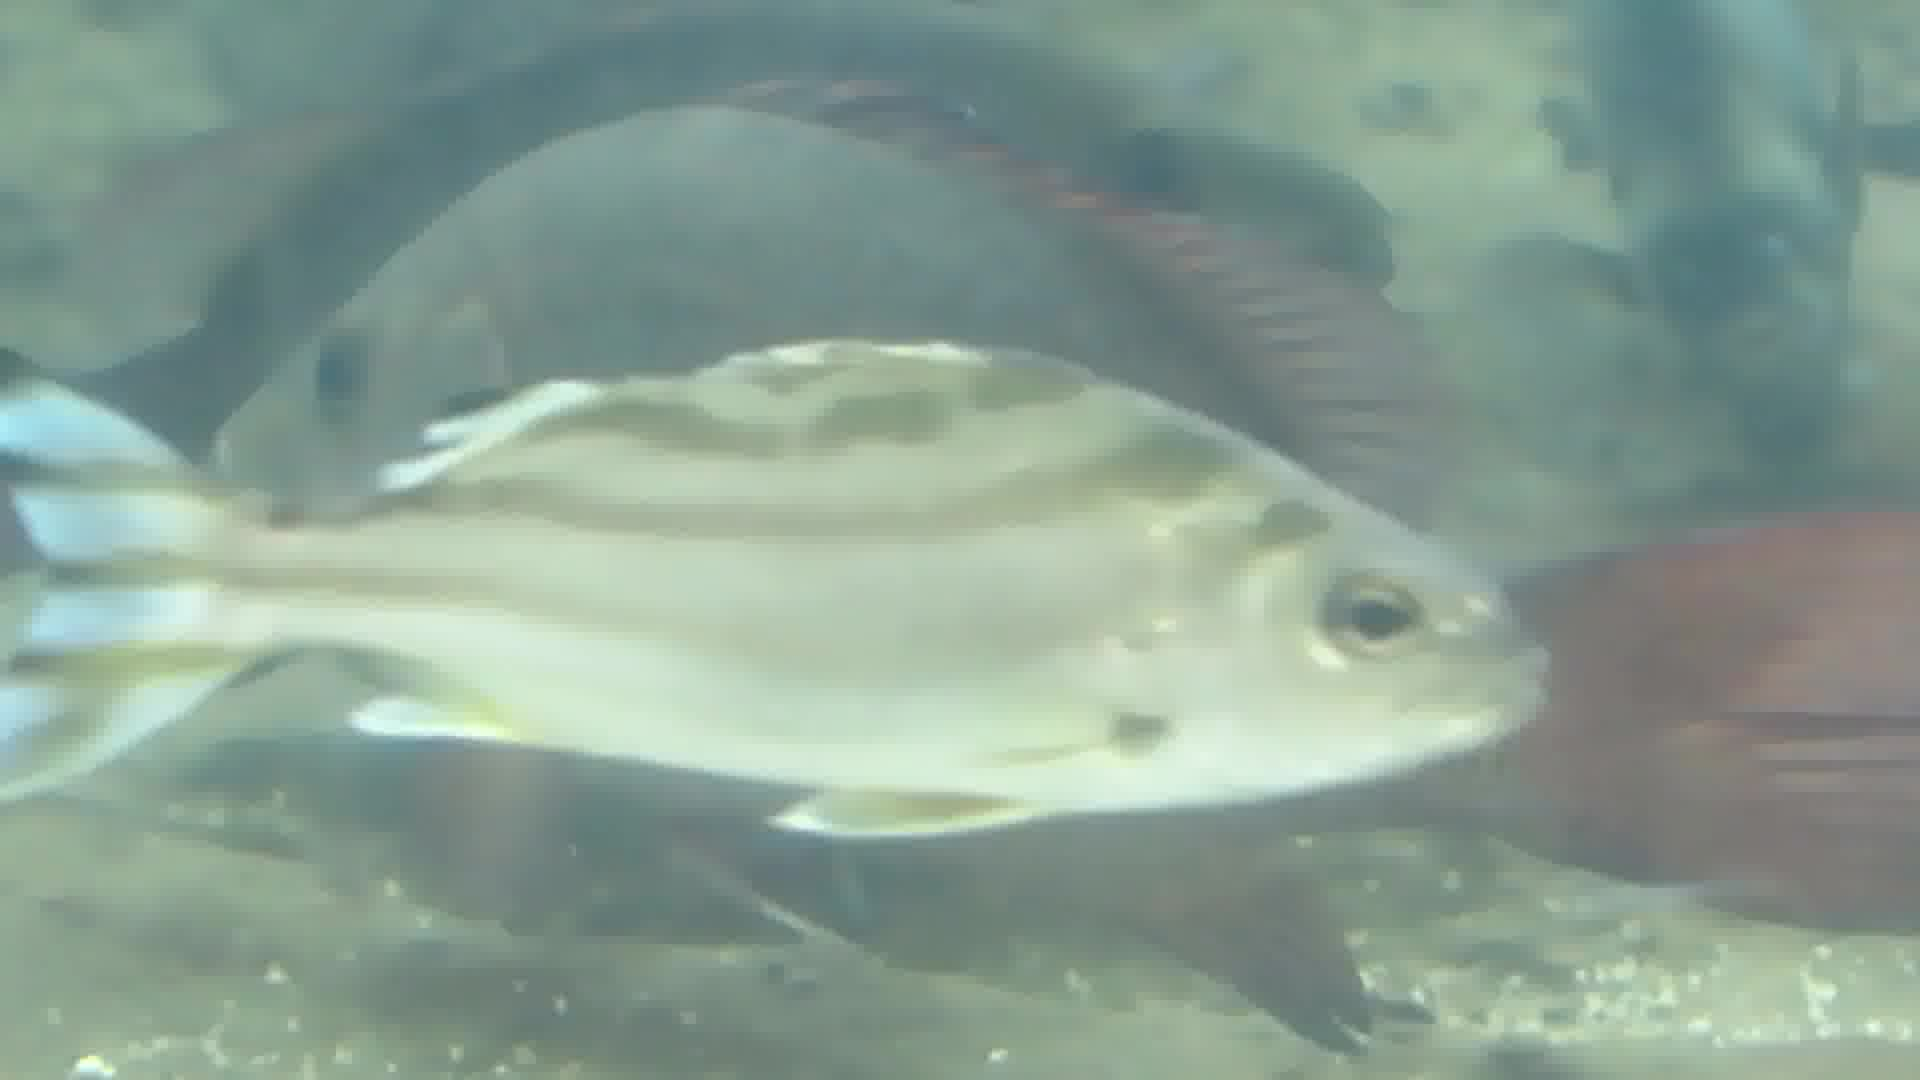Lutjanus argentimaculatus: (227, 98, 1513, 527)
